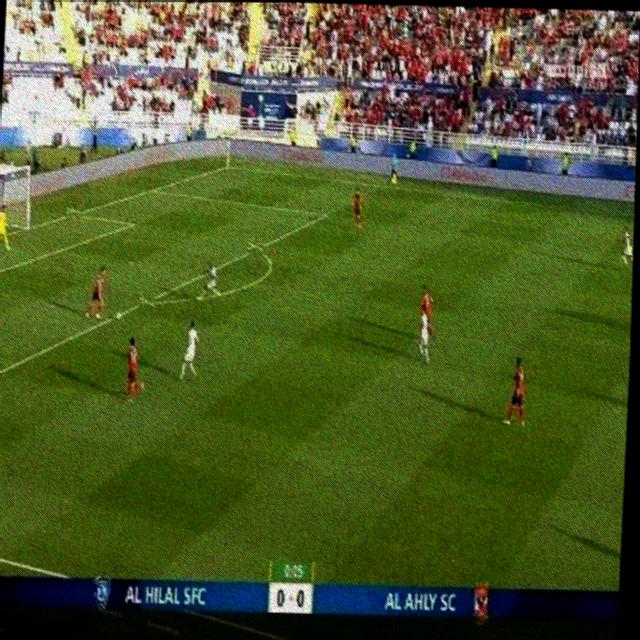bigarea_bottom_inner: (0, 355, 7, 381)
bigarea_top_inner: (316, 205, 330, 221)
bigarea_top_outter: (144, 182, 159, 194)
bottom_arc_area_intersection: (138, 289, 155, 307)
corner: (218, 158, 234, 170)
smallarea_top_inner: (123, 215, 136, 229)
smallarea_top_outter: (65, 204, 81, 220)
top_arc_area_intersection: (247, 238, 262, 254)
